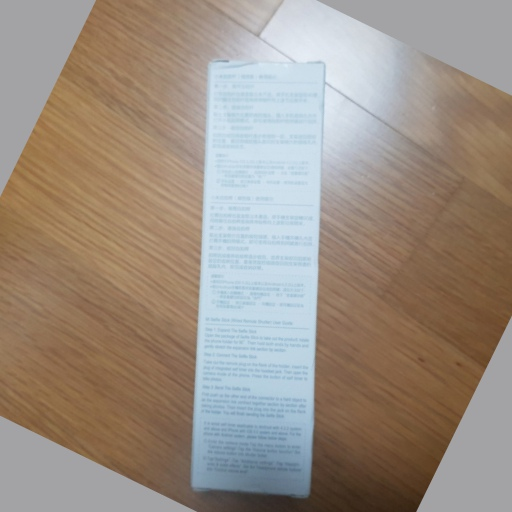Paper_0: (186, 54, 335, 507)
